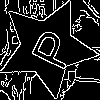P: (22, 22, 78, 73)
